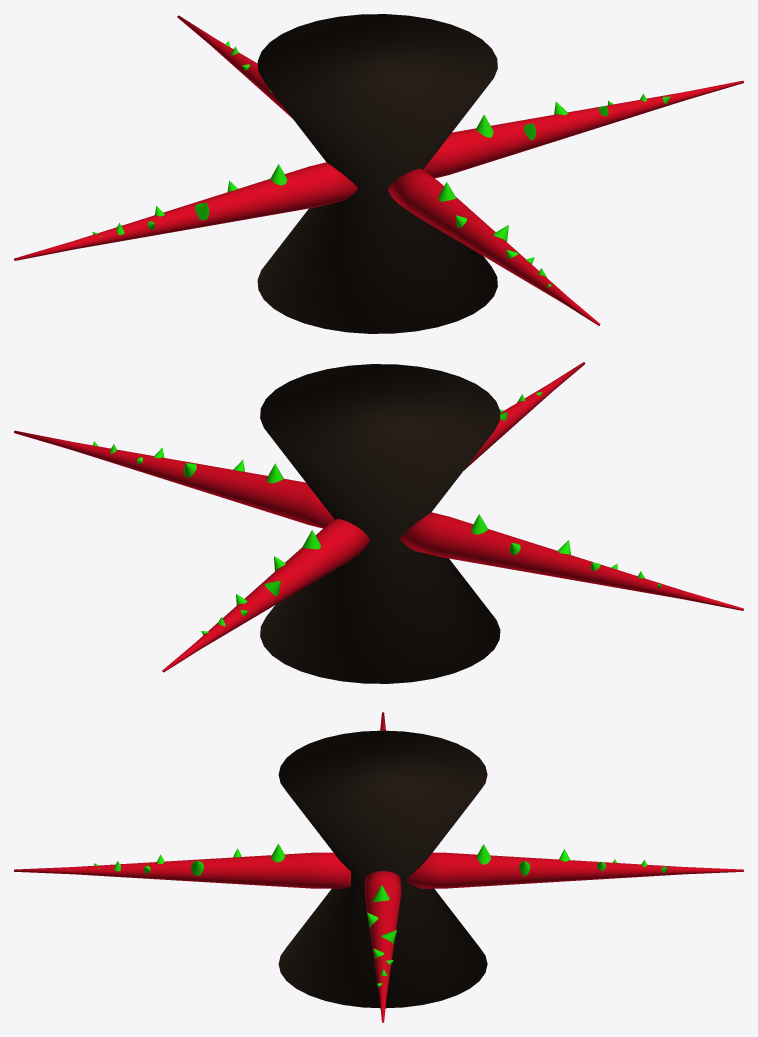
The model's file is Engel.fbx.
3 renders of one model, top to bottom at view 1: azimuth 30°, elevation 25°; view 2: azimuth 150°, elevation 25°; view 3: azimuth 270°, elevation 25°, orthographic. The views are drawn at different scales.
Parts seen in each view (by area): view 1: Cone.001; view 2: Cone.001; view 3: Cone.001.
Part boxes in pixels (box(x1,y1,x2,y2)): Cone.001: box(14, 14, 743, 333); Cone.001: box(14, 362, 743, 683); Cone.001: box(14, 712, 743, 1022).
Size of the model in its own units: 566 by 162 by 566.
